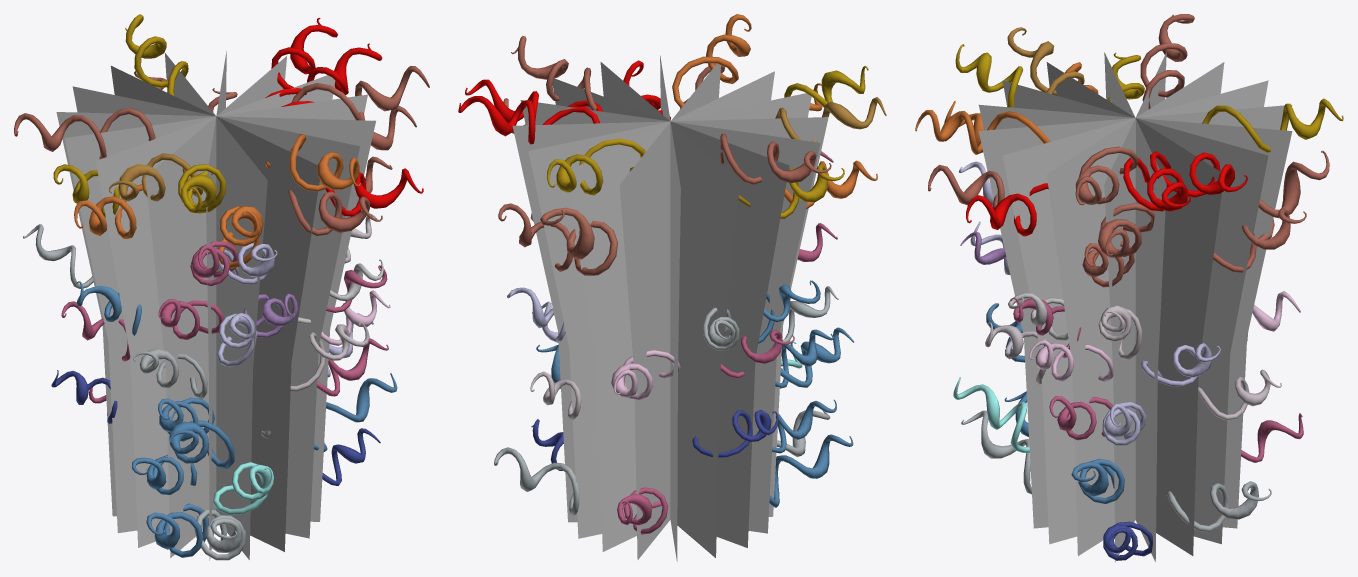
The model's file is MidDecor3.fbx.
3 renders of one model, left to right at view 1: azimuth 30°, elevation 25°; view 2: azimuth 150°, elevation 25°; view 3: azimuth 270°, elevation 25°, orthographic.
Parts seen in each view (by area): view 1: MidDecor3_LOD0; view 2: MidDecor3_LOD0; view 3: MidDecor3_LOD0.
Part boxes in pixels (bbox=[...]): MidDecor3_LOD0: bbox=[14, 14, 429, 560]; MidDecor3_LOD0: bbox=[458, 14, 886, 561]; MidDecor3_LOD0: bbox=[915, 14, 1343, 562].
Size of what is drawn, in the model's own units: 190 by 215 by 192.
